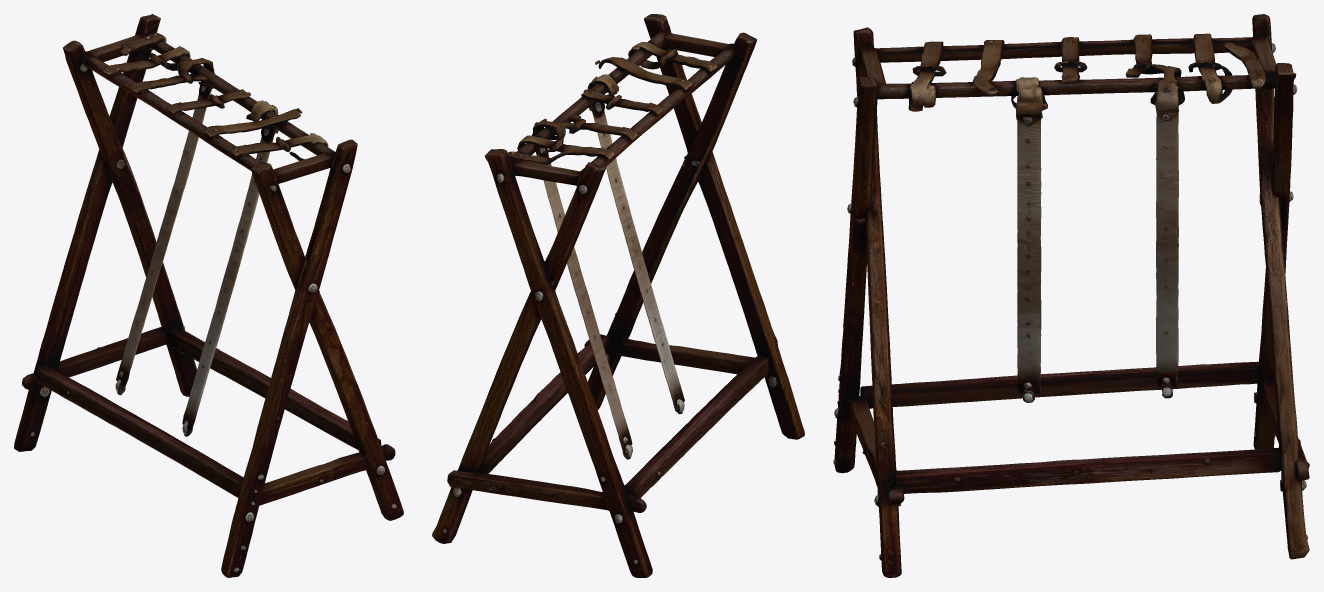
3 renders of one model, left to right at view 1: azimuth 30°, elevation 25°; view 2: azimuth 150°, elevation 25°; view 3: azimuth 270°, elevation 25°, orthographic. The views are drawn at different scales.
Visible parts, largest first — view 1: tripo_node_1ccd0621-11bf-43fd-815b-6caf99489e29; view 2: tripo_node_1ccd0621-11bf-43fd-815b-6caf99489e29; view 3: tripo_node_1ccd0621-11bf-43fd-815b-6caf99489e29.
Boxes of the visible parts, left/top/right/bottom form: tripo_node_1ccd0621-11bf-43fd-815b-6caf99489e29: left=14, top=14, right=403, bottom=577; tripo_node_1ccd0621-11bf-43fd-815b-6caf99489e29: left=432, top=14, right=804, bottom=577; tripo_node_1ccd0621-11bf-43fd-815b-6caf99489e29: left=833, top=14, right=1309, bottom=577.
Size of the model in its own units: 0.5974 by 1 by 0.922.
Materials: 1 (1 with a texture image).
